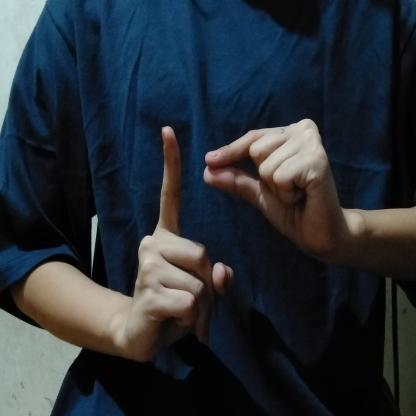son: (122, 112, 353, 368)
